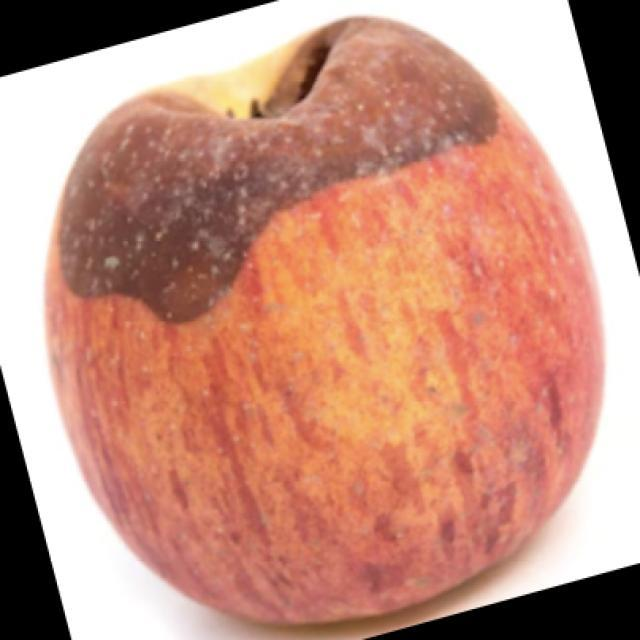Rotten: (38, 8, 615, 635)
